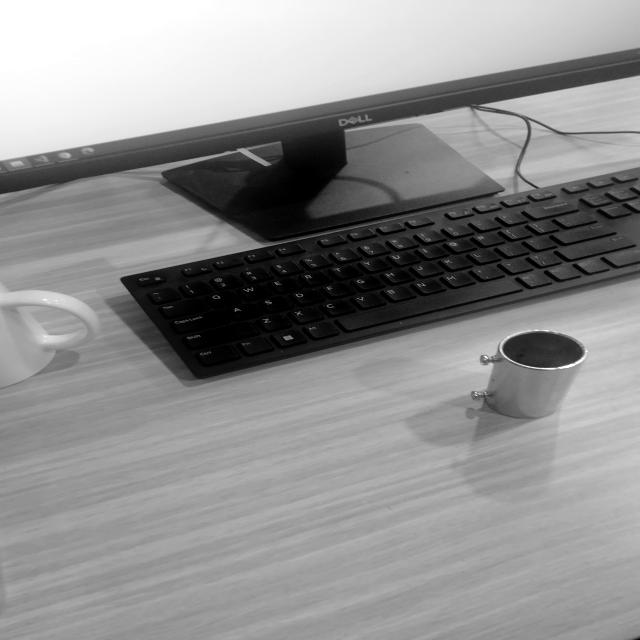Co_Lon: (461, 303, 592, 438)
